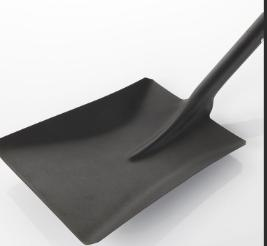PELLE: (0, 5, 266, 246)
